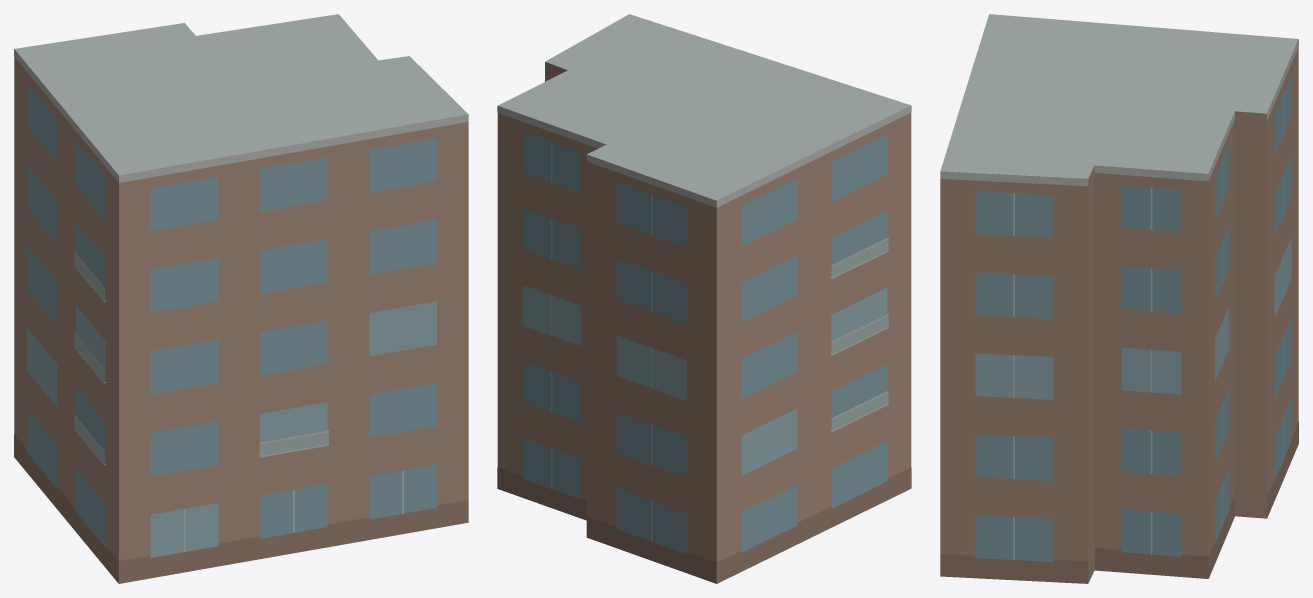
File: survey-upis-32756402.glb
The picture shows the model from 3 angles, left to right: view 1: azimuth 30°, elevation 25°; view 2: azimuth 150°, elevation 25°; view 3: azimuth 270°, elevation 25°; orthographic projection. The views are drawn at different scales.
Parts seen in each view (by area): view 1: survey-upis-32756402.tmp; view 2: survey-upis-32756402.tmp; view 3: survey-upis-32756402.tmp.
Boxes of the visible parts, left/top/right/bottom form: survey-upis-32756402.tmp: left=14, top=14, right=468, bottom=583; survey-upis-32756402.tmp: left=497, top=14, right=911, bottom=583; survey-upis-32756402.tmp: left=940, top=14, right=1298, bottom=583.
Bounding box in the file's own units: 11.62 × 13.3 × 10.68.
